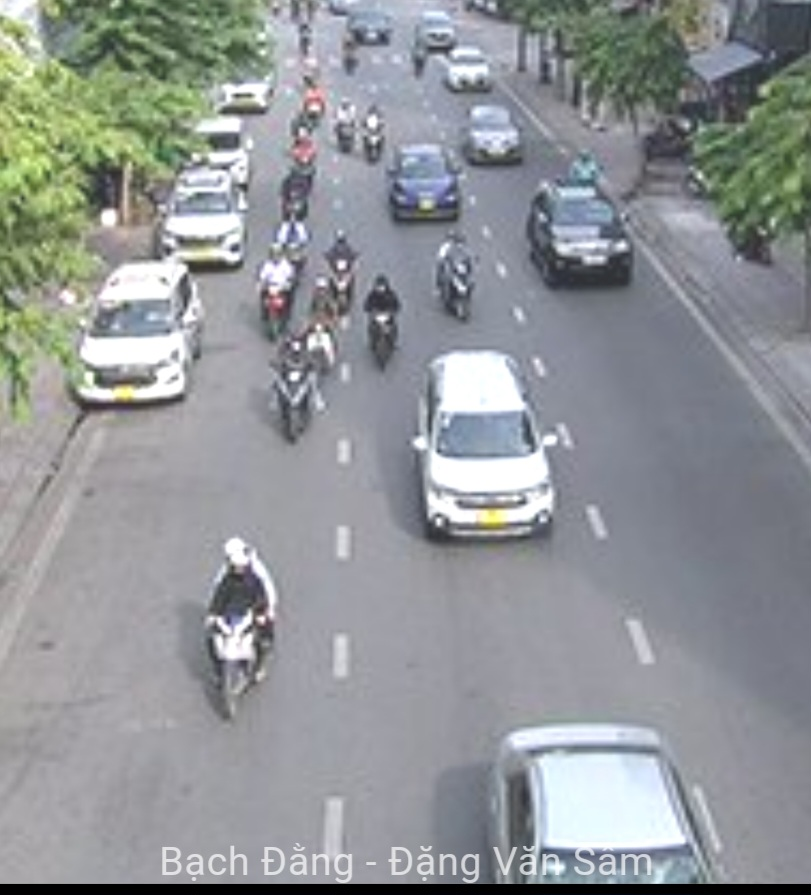car: (490, 725, 730, 895), (419, 351, 553, 542), (76, 262, 197, 409), (526, 180, 635, 287), (161, 170, 247, 272), (387, 145, 462, 221), (466, 108, 524, 165), (449, 50, 494, 91)
